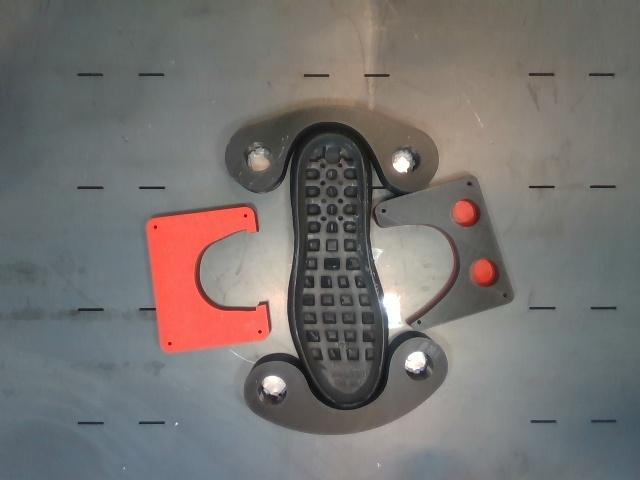shoes: (294, 133, 385, 405)
